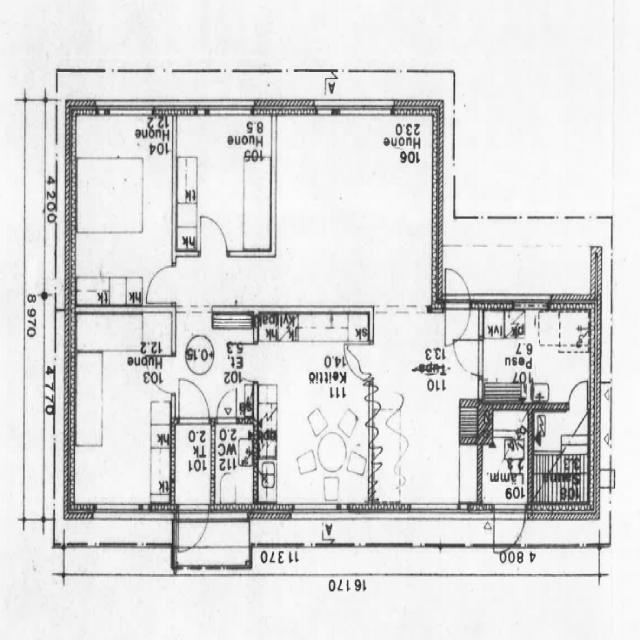door: (441, 264, 473, 347), (174, 503, 211, 558), (176, 377, 211, 425), (143, 261, 178, 309), (492, 506, 528, 552), (198, 209, 230, 258), (451, 335, 485, 379), (215, 386, 240, 424), (22, 68, 48, 103), (565, 378, 589, 412)
window: (92, 500, 141, 524), (290, 502, 341, 523), (408, 500, 456, 522), (336, 101, 393, 119), (108, 102, 154, 120), (206, 102, 254, 119), (0, 91, 22, 108), (314, 102, 336, 117)
zone: (274, 112, 437, 312), (259, 307, 372, 515), (371, 311, 480, 516), (69, 313, 173, 518), (71, 110, 176, 310), (176, 112, 275, 257), (479, 306, 595, 406), (531, 405, 592, 512), (479, 407, 532, 511), (212, 422, 256, 512), (171, 421, 212, 508), (565, 377, 590, 410)
